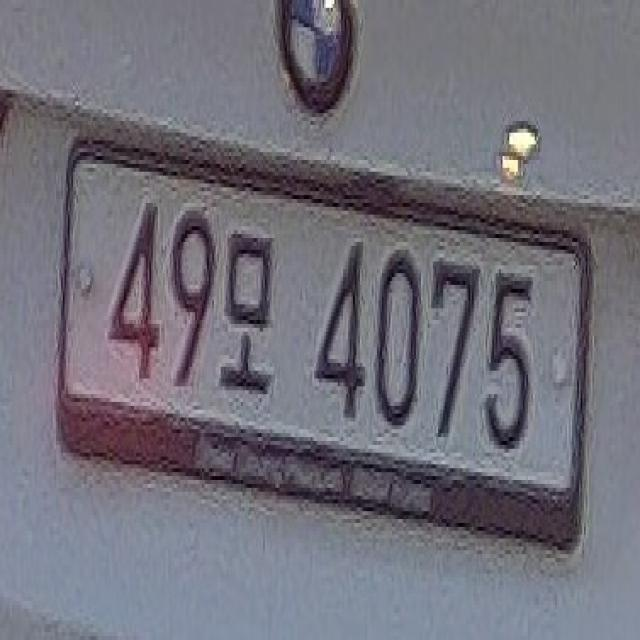0: (371, 239, 422, 440)
4: (312, 232, 368, 428), (109, 186, 163, 382)
5: (483, 256, 546, 458)
7: (427, 243, 479, 456)
9: (170, 201, 216, 396)
license_plate: (38, 125, 602, 571)
mo: (220, 206, 284, 420)
